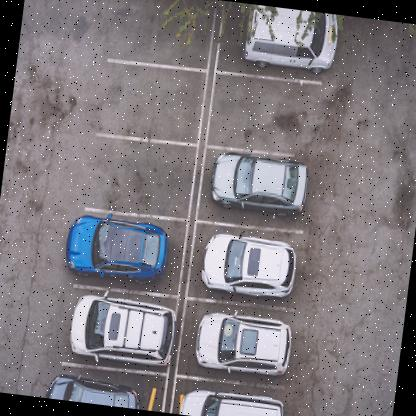Car: (190, 217, 316, 314), (60, 287, 182, 371), (186, 305, 304, 385), (62, 202, 174, 283), (206, 149, 321, 224), (243, 5, 347, 80), (43, 364, 146, 410), (175, 378, 293, 416)
Empty: (209, 74, 327, 159), (98, 59, 204, 139), (94, 141, 196, 214), (110, 0, 212, 65)
